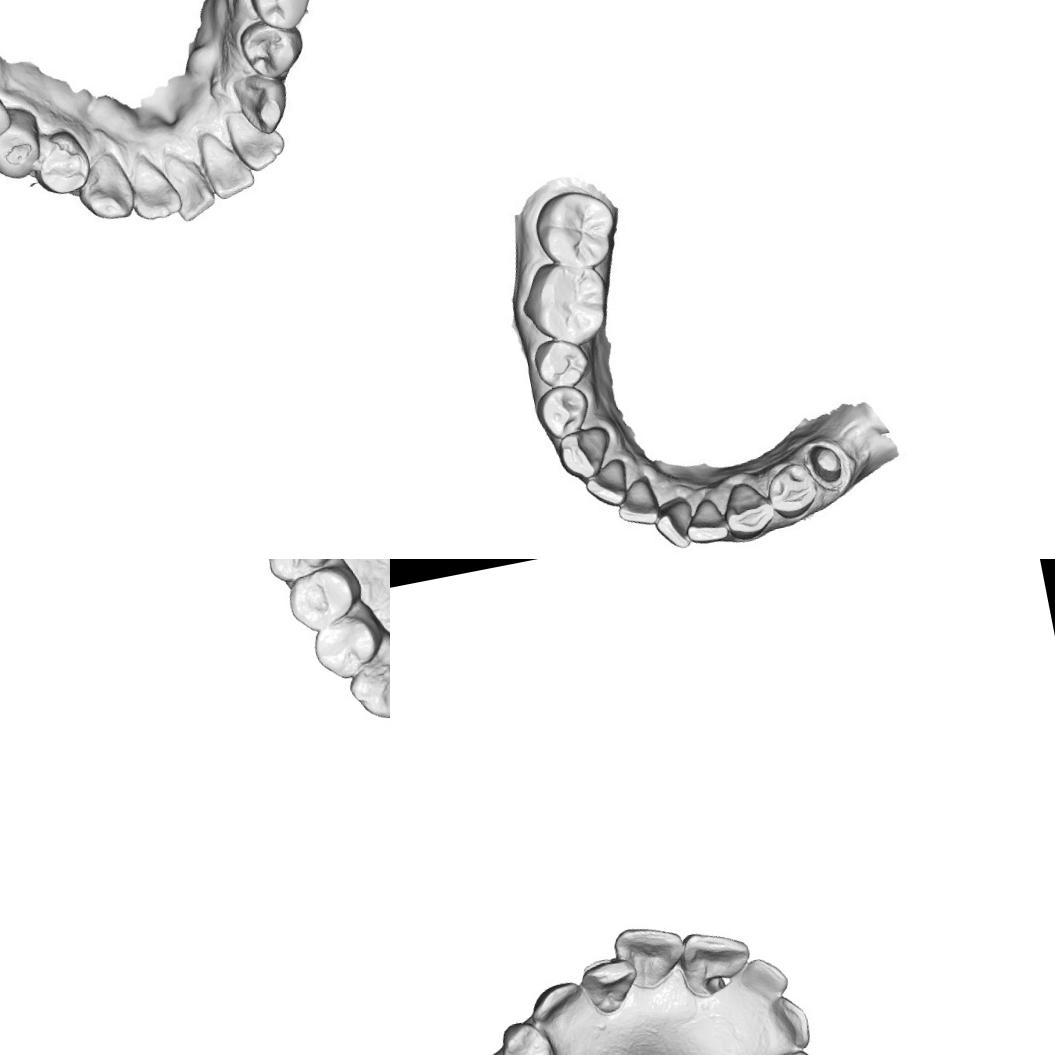canine: (228, 64, 292, 138), (340, 633, 390, 724), (76, 151, 134, 222), (716, 478, 776, 543), (551, 424, 614, 482), (524, 977, 588, 1029), (765, 991, 813, 1054)
incisor: (673, 922, 757, 1002), (610, 917, 690, 994), (224, 103, 290, 178), (162, 145, 217, 228), (120, 149, 179, 224), (576, 954, 644, 1019), (198, 128, 256, 202), (678, 494, 732, 550), (648, 495, 700, 553), (736, 952, 791, 1006), (577, 458, 630, 514), (610, 479, 661, 533)
molar: (530, 185, 618, 272), (525, 258, 605, 342), (252, 559, 346, 586)
premolar: (305, 603, 390, 684), (280, 559, 367, 635), (23, 124, 96, 206), (236, 14, 308, 81), (762, 454, 822, 520), (530, 331, 590, 394), (0, 113, 45, 186), (535, 386, 592, 442), (245, 0, 324, 37), (496, 1014, 557, 1055)
